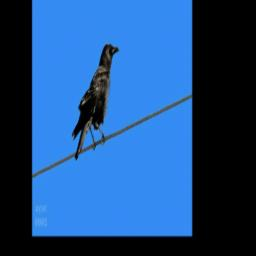Crow: (71, 42, 121, 161)
